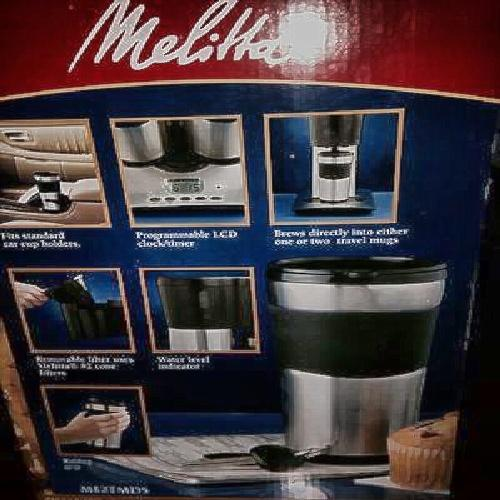coffee_maker: (255, 253, 454, 468)
